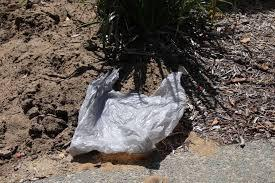Plastic: (70, 66, 192, 170)
